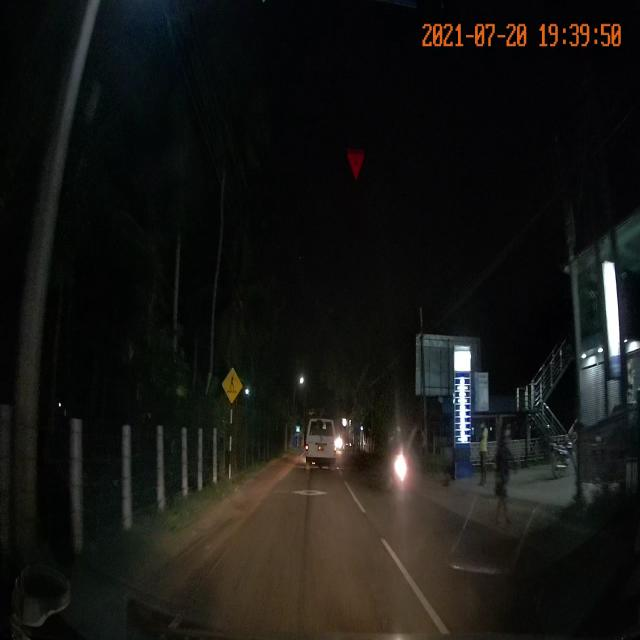diamond: (250, 481, 360, 502)
